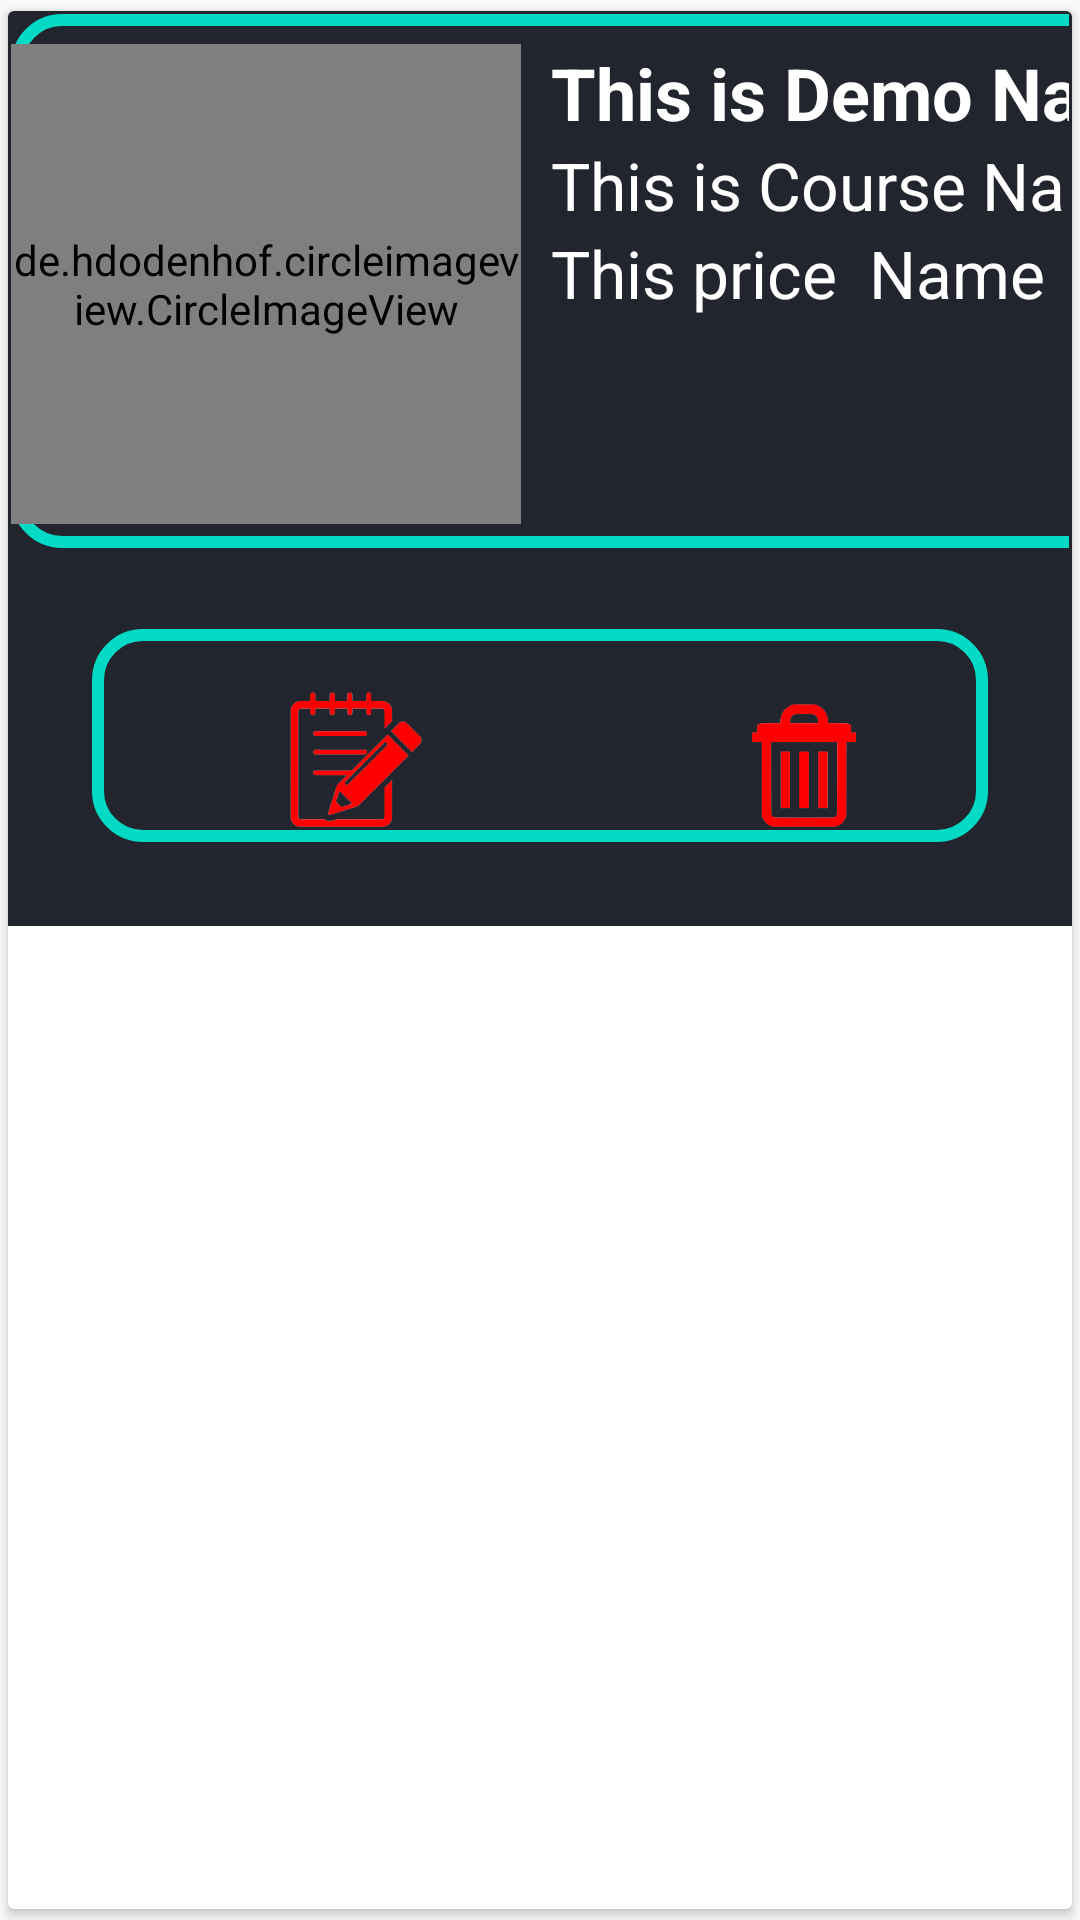

Named icons in this screenshot (1080 x 1920) and their bounding boxes, {"x1": x1, "y1": y1, "x2": x2, "y2": y2}:
delete: {"x1": 752, "y1": 704, "x2": 856, "y2": 827}
edit: {"x1": 290, "y1": 692, "x2": 422, "y2": 827}
